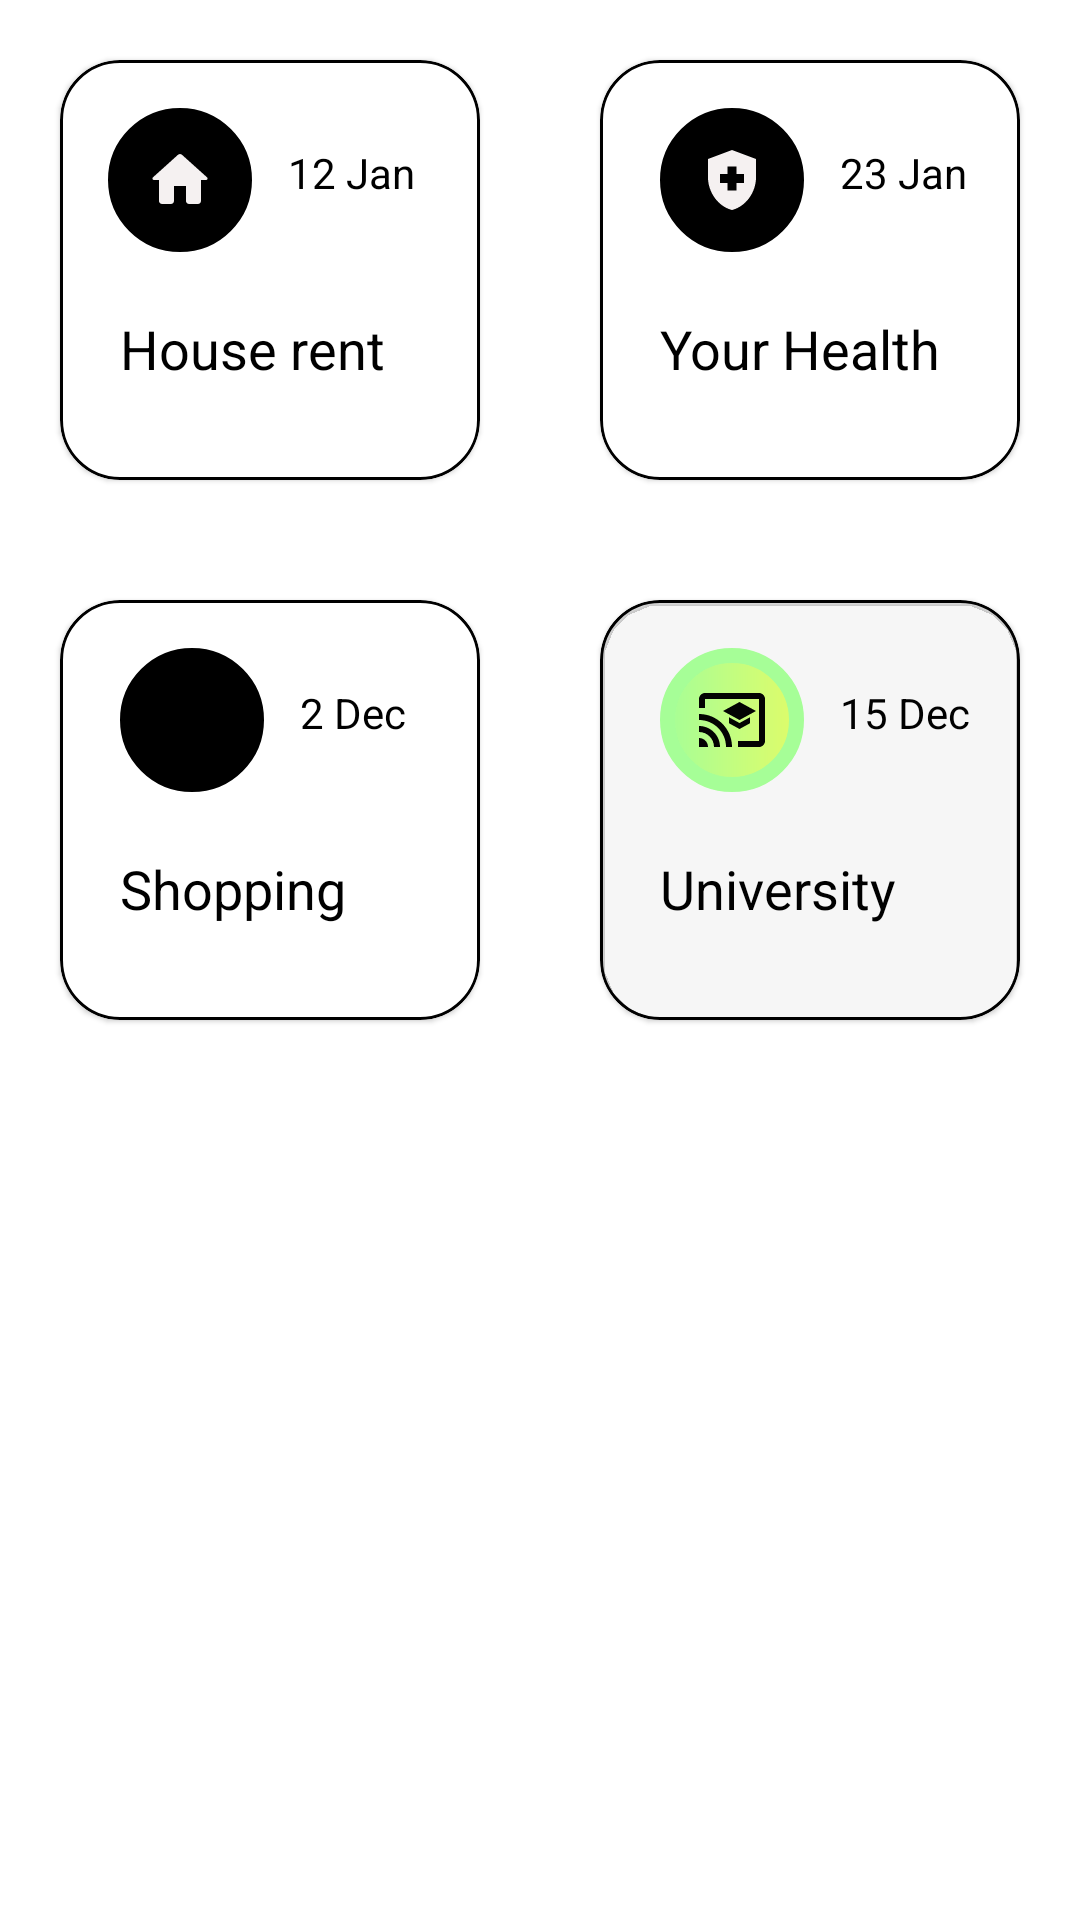

Where to tap for icons on this 1080*1920 app screen, as (x=x, y=y):
cast for education: (x=732, y=720)
home: (x=180, y=180)
